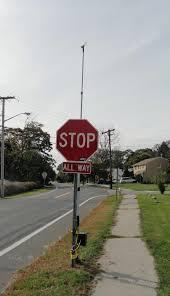Pole: (72, 173, 79, 267)
Sign: (55, 118, 100, 164)
